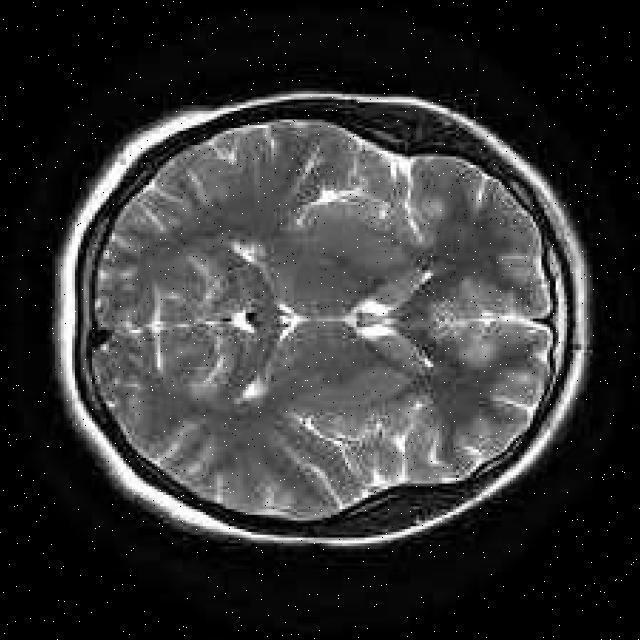No_Tumor: (56, 91, 589, 548)
